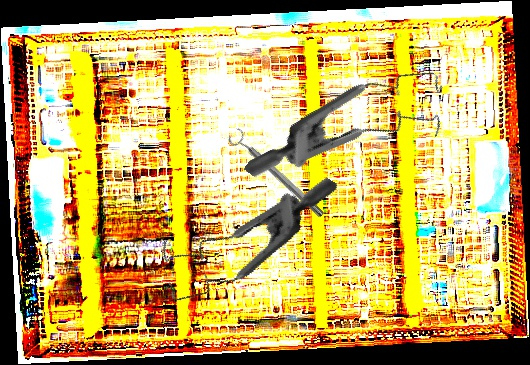Fixation Ring: (225, 125, 329, 224)
Speculum: (243, 16, 466, 250), (142, 124, 339, 343)
